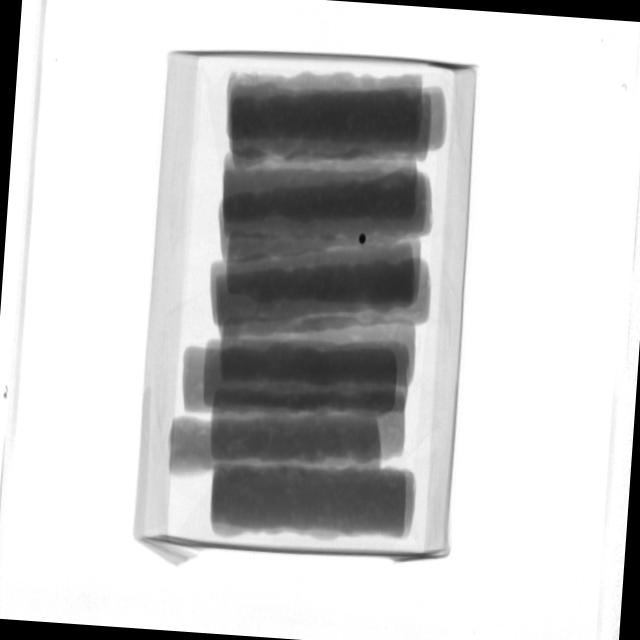ym: (359, 235, 368, 245)
